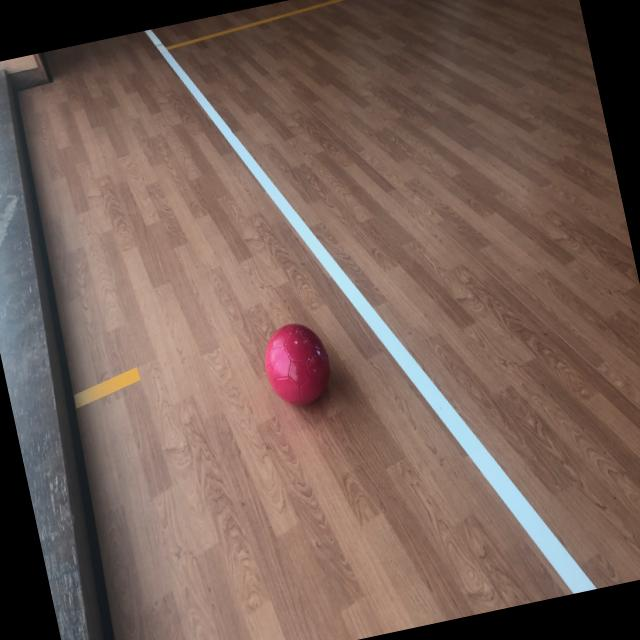red_ball: (258, 318, 337, 413)
